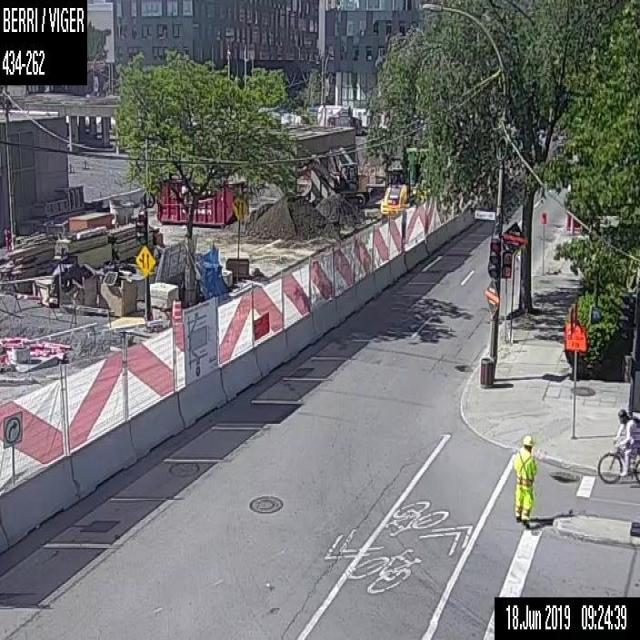construction: (564, 318, 585, 439), (2, 408, 22, 485), (173, 298, 183, 329)
cyclist: (596, 405, 639, 484)
pedestrian: (511, 434, 538, 530)
